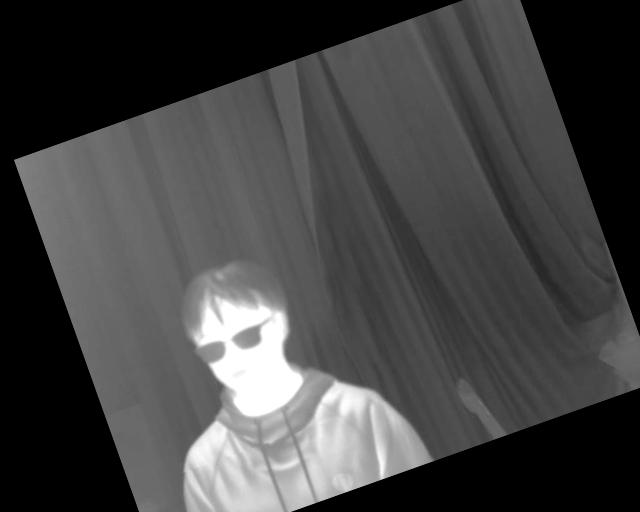face: (167, 247, 310, 404)
